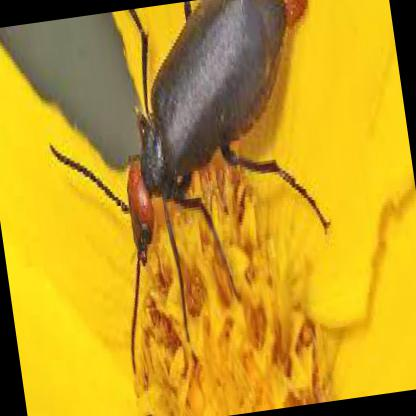blister beetle: (50, 0, 332, 375)
